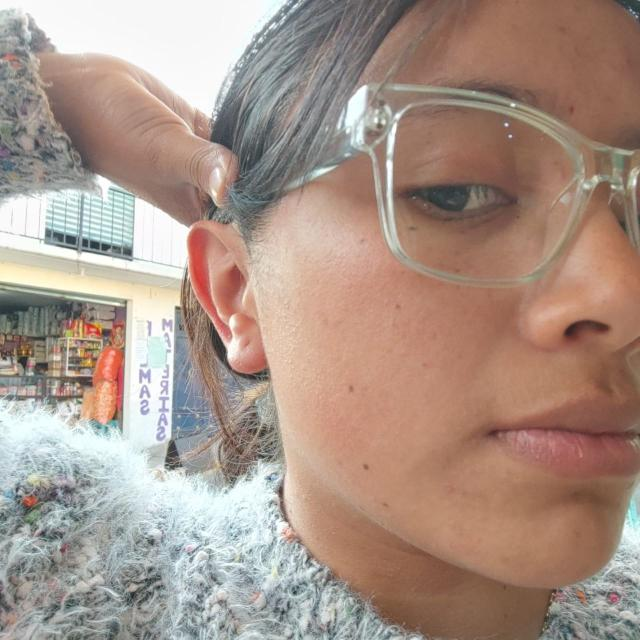ear: (189, 220, 268, 374)
